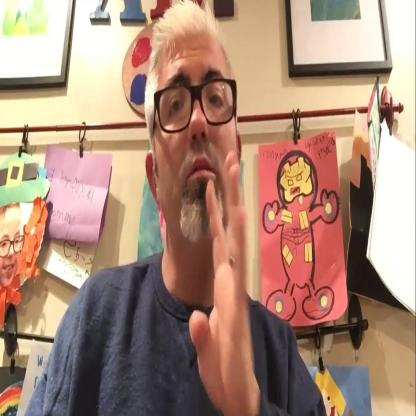Talk: (135, 0, 285, 416)
